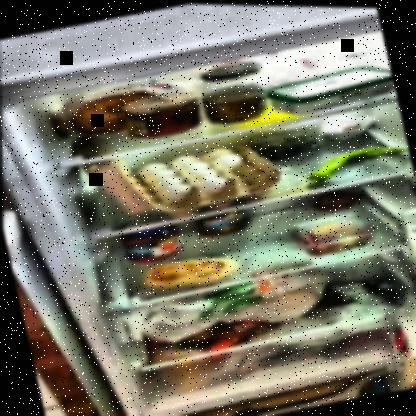cream_cheese: (269, 59, 394, 117)
eggs: (140, 142, 251, 207)
green_chillies: (295, 137, 411, 187)
olives: (257, 126, 322, 162)
tomato_paste: (123, 88, 202, 142)
